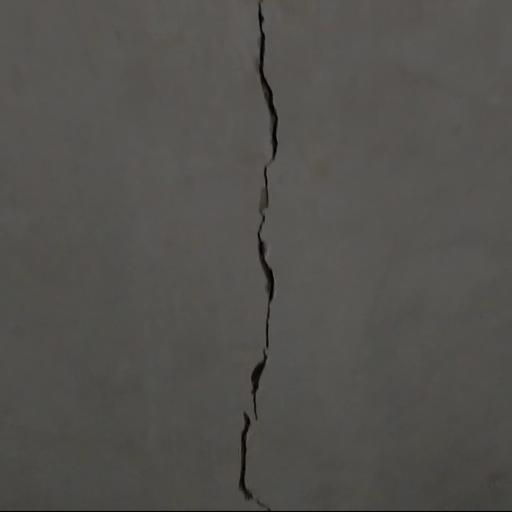major_crack: (232, 0, 284, 512)
